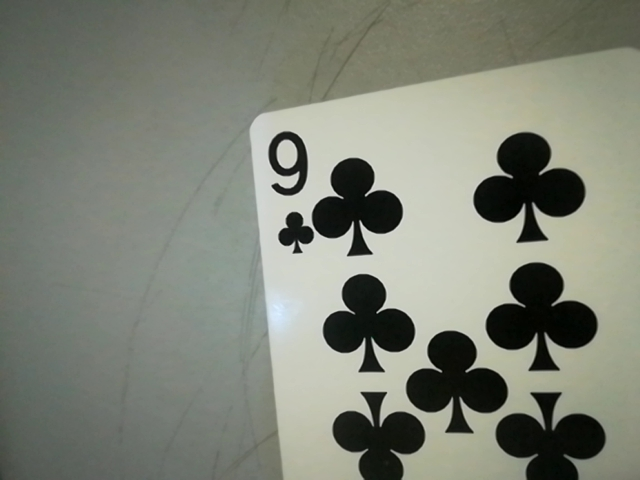mh 9: (256, 118, 319, 258)
